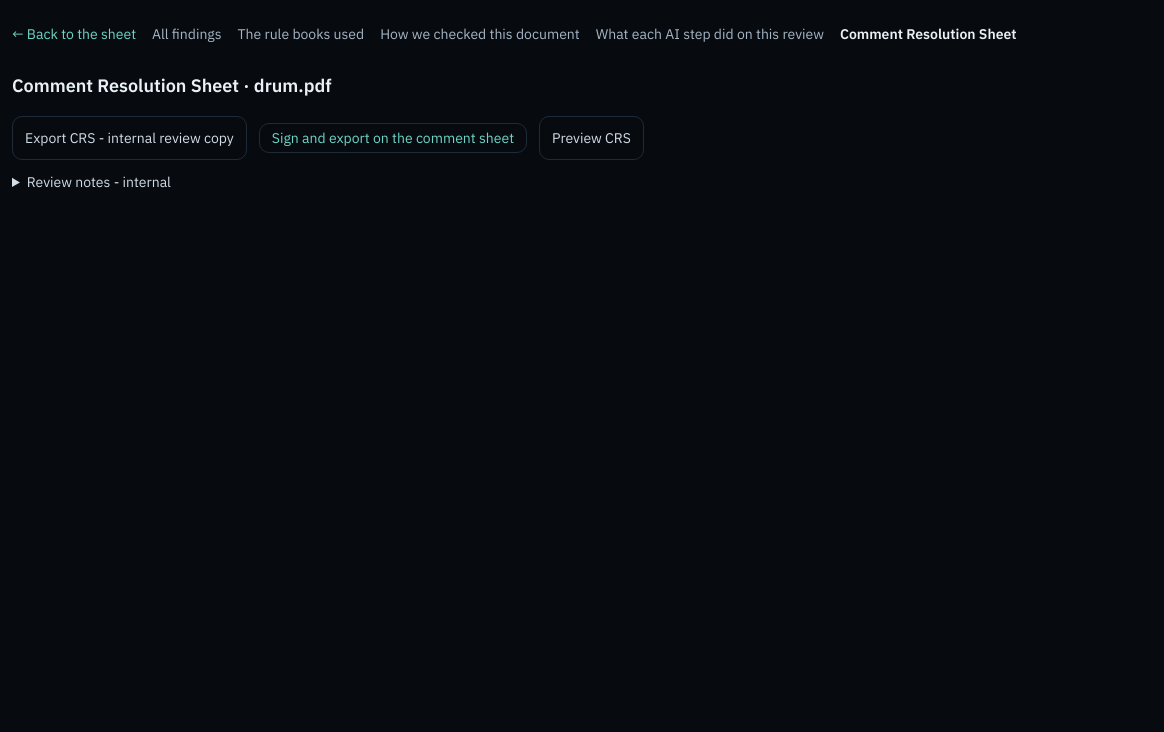
Scenario: the CRS preview › renders the header block the workbook prints, labels and all
Click the button "Preview CRS" at (592, 138), box [539, 116, 644, 160]
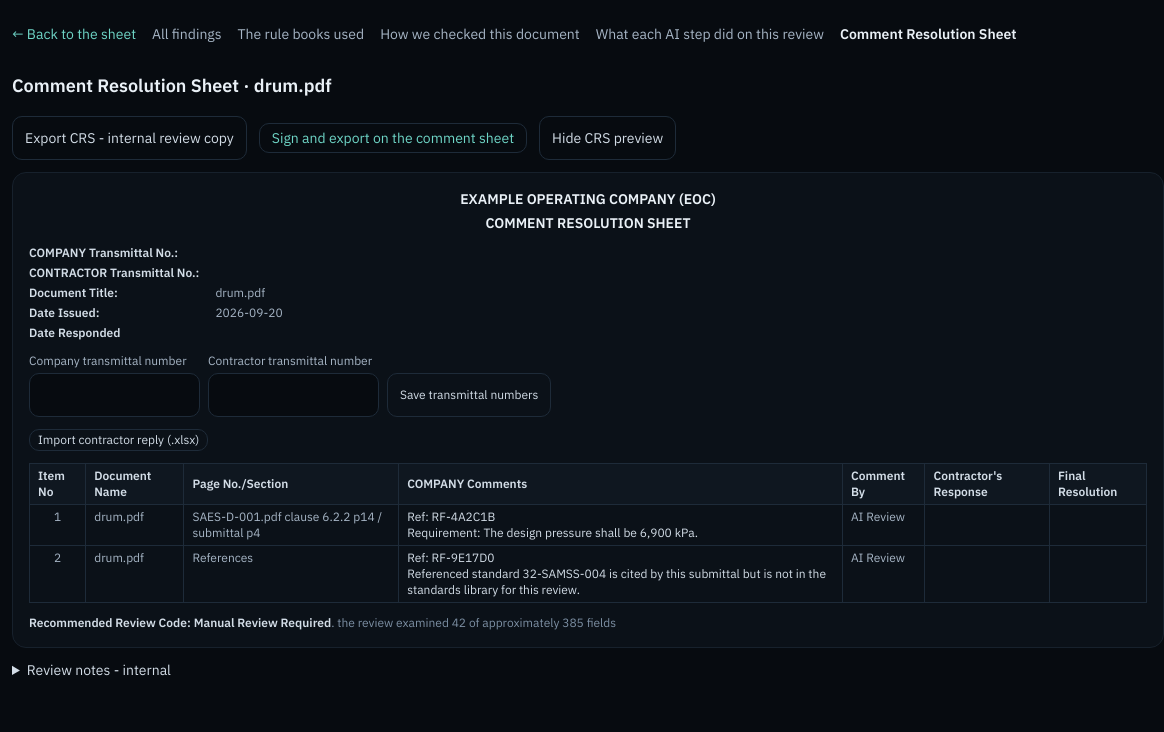
Check: the text "EXAMPLE OPERATING COMPANY (EOC)" is shown, box [460, 190, 716, 208]
Check: the text "COMMENT RESOLUTION SHEET" is shown, box [486, 214, 691, 232]
Check: the text "drum.pdf" is shown, box [215, 285, 265, 300]
